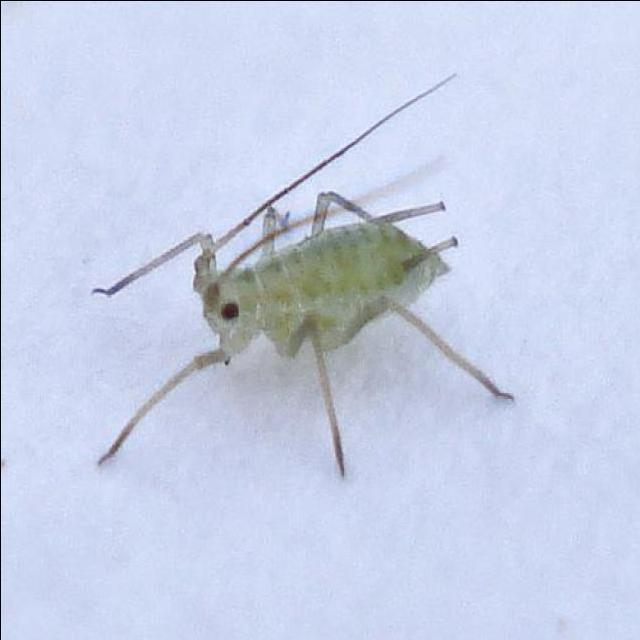aphid: (85, 90, 472, 507)
